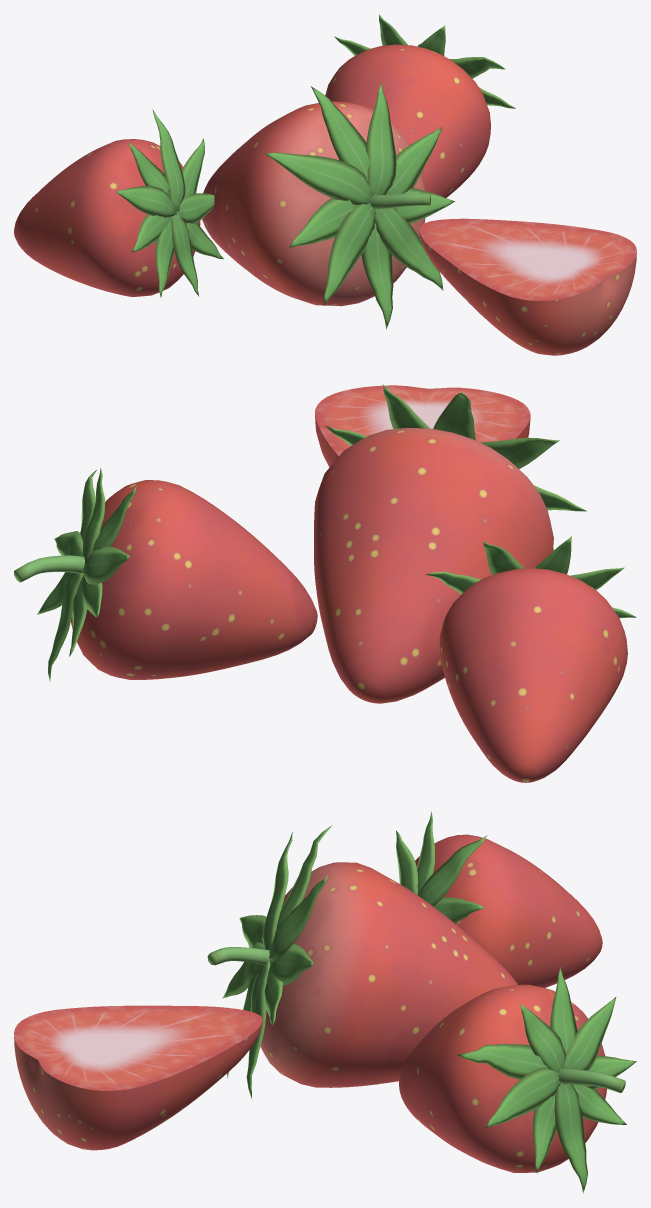
The model's file is strawberry-source.glb.
3 renders of one model, top to bottom at view 1: azimuth 30°, elevation 25°; view 2: azimuth 150°, elevation 25°; view 3: azimuth 270°, elevation 25°, orthographic. The views are drawn at different scales.
Parts seen in each view (by area): view 1: strawberry_body; view 2: strawberry_body; view 3: strawberry_body.
Part boxes in pixels (x1=…): strawberry_body: x1=14, y1=14, x2=636, y2=355; strawberry_body: x1=14, y1=384, x2=636, y2=782; strawberry_body: x1=14, y1=811, x2=636, y2=1193.
Size of the model in its own units: 0.0892 by 0.0403 by 0.0936.
1 material, 1 textured.
